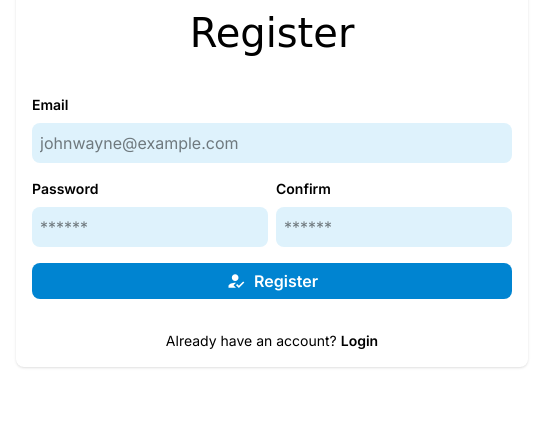
Register page › shows an error message when user leaves the Email field empty
This screenshot has width=545, height=425.
What coordinates should you click on to do the following:
click the button with test id "register-button"
I would click on:
 (272, 281)
Its box is [32, 263, 512, 299].
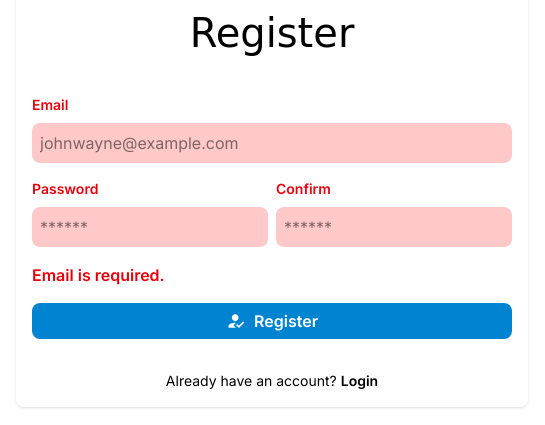
Expected: the text "Email is required." is shown, [32, 265, 165, 285]
